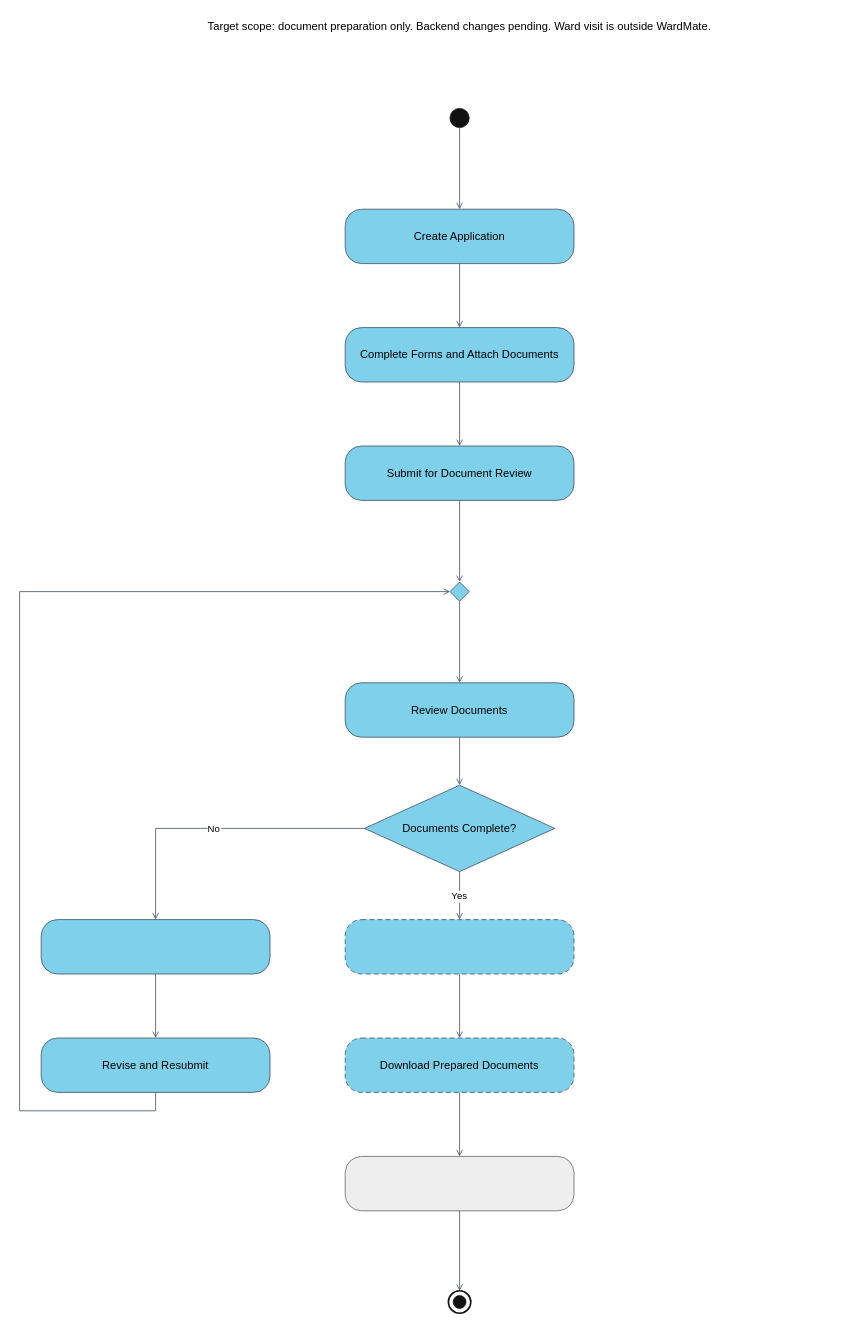
Some shapes in this 858 by 1327 pixel diagram are drawn without their labels. The shapes that lost their labels are listed below. From the top down, each one's centre as x and y in pixels, then its label:
At point (155, 946): "Request Revision".
At point (459, 946): "Confirm Document Readiness".
At point (459, 1183): "Visit Ward Office".
